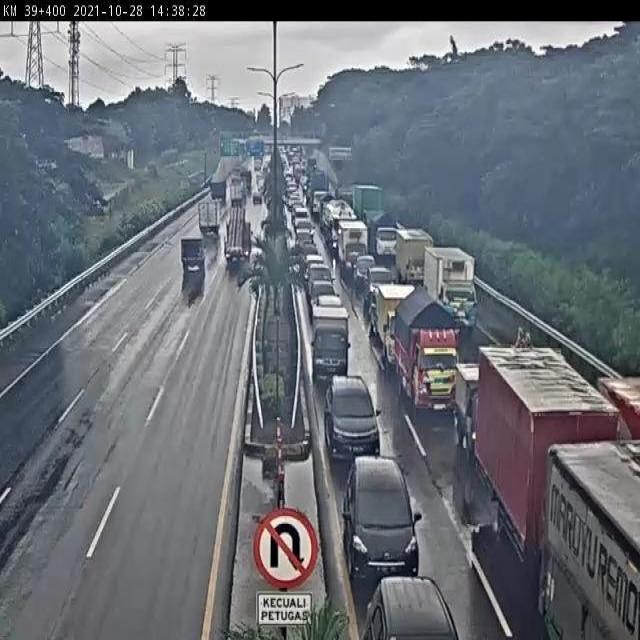Car: (348, 457, 418, 583), (324, 374, 380, 461), (311, 306, 350, 383), (365, 264, 396, 308), (303, 264, 332, 289)
Truck: (456, 341, 606, 540), (396, 294, 464, 409), (361, 578, 461, 635), (368, 282, 416, 376), (424, 246, 474, 311), (394, 229, 434, 284), (335, 219, 369, 281), (224, 206, 251, 269), (352, 183, 387, 226), (180, 237, 205, 296), (308, 168, 330, 212), (198, 200, 220, 238), (210, 174, 230, 204)
